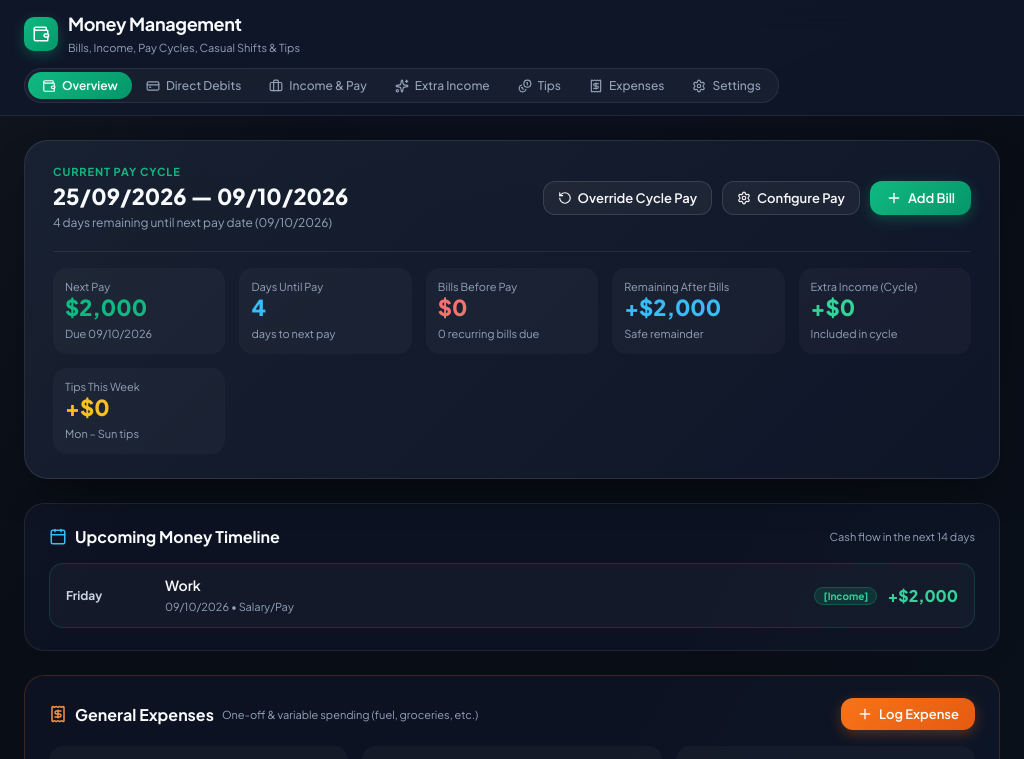
Test: MoneyModule shift log cycle grouping › resets the stats strip to zero when the active cycle has no shifts
The image size is (1024, 759).
Step 1. Click the tab "Income & Pay" → (318, 86), box [255,72,381,99]
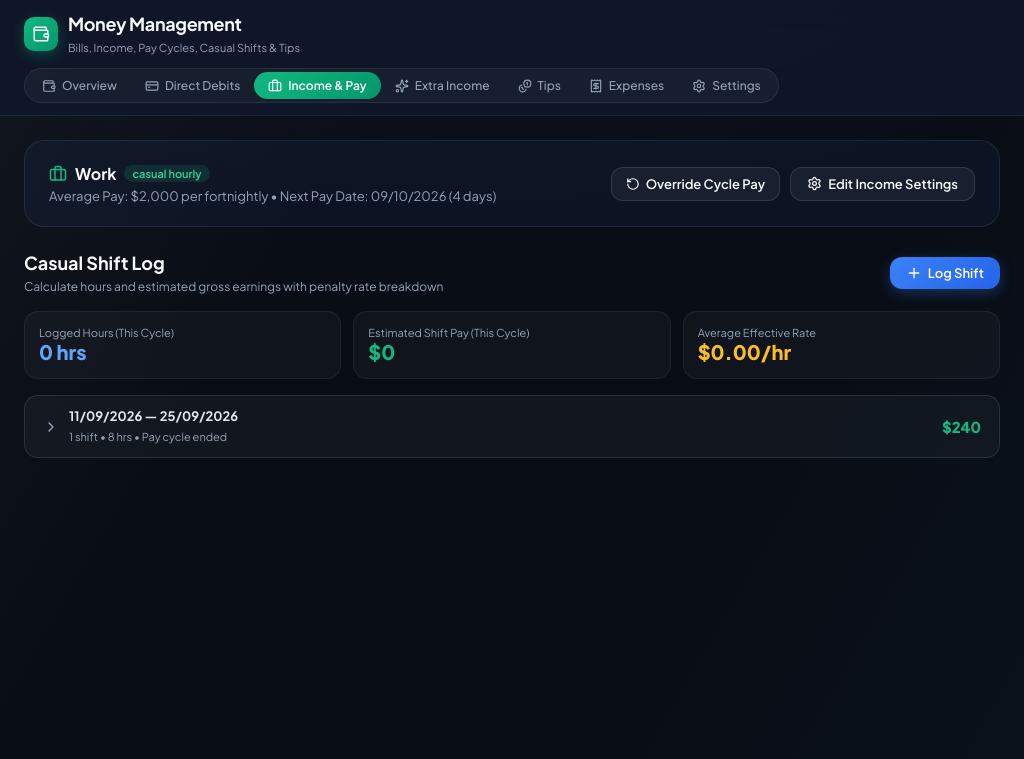
Check: the text "1 shift • 8 hrs • Pay cycle ended" is shown once, box [69,430,227,443]
